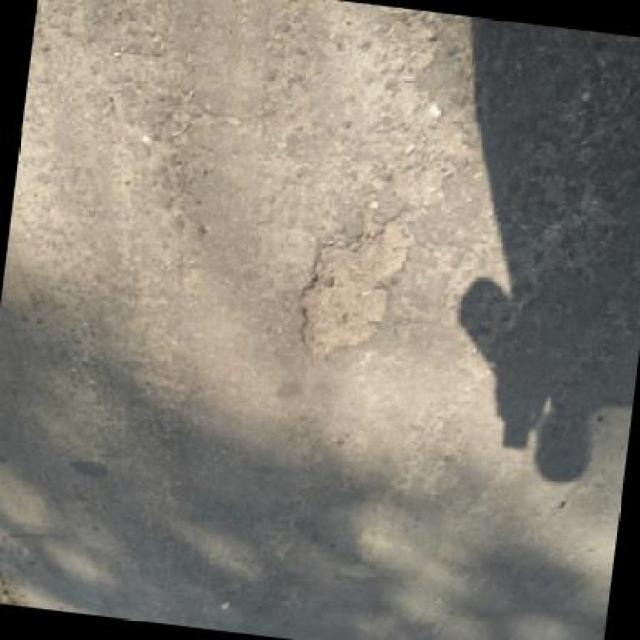pothole1: (287, 207, 419, 371)
